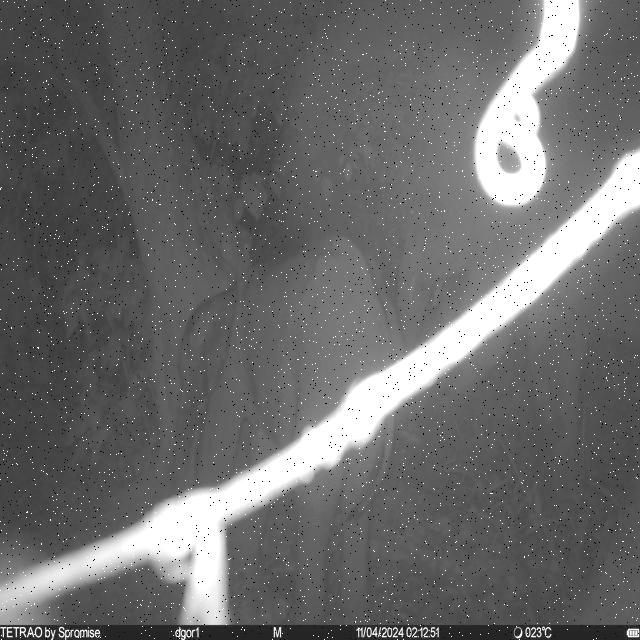calf: (178, 232, 405, 624)
ear: (178, 282, 242, 411)
elephant: (396, 94, 640, 516)
tusk: (431, 282, 444, 311), (407, 274, 418, 302)
